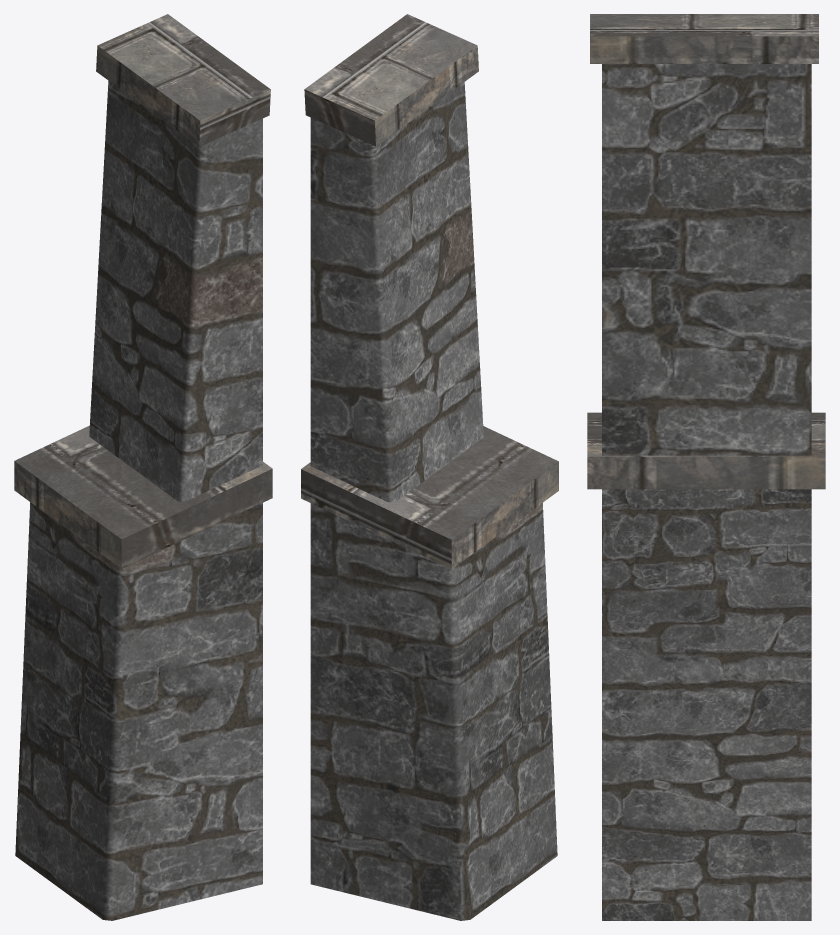
The model's file is MC_Buttresses_Wall_A.fbx.
3 views of the same model, side by side, from view 1: azimuth 30°, elevation 25°; view 2: azimuth 150°, elevation 25°; view 3: azimuth 270°, elevation 25° (orthographic). The views are drawn at different scales.
Visible parts, largest first — view 1: MC_Buttresses_Wall_A; view 2: MC_Buttresses_Wall_A; view 3: MC_Buttresses_Wall_A.
Boxes of the visible parts, x1,y1,x2,y2 form: MC_Buttresses_Wall_A: (14, 14, 272, 920); MC_Buttresses_Wall_A: (301, 14, 558, 920); MC_Buttresses_Wall_A: (587, 14, 825, 920).
Bounding box in the file's own units: 140 × 667 × 163.
